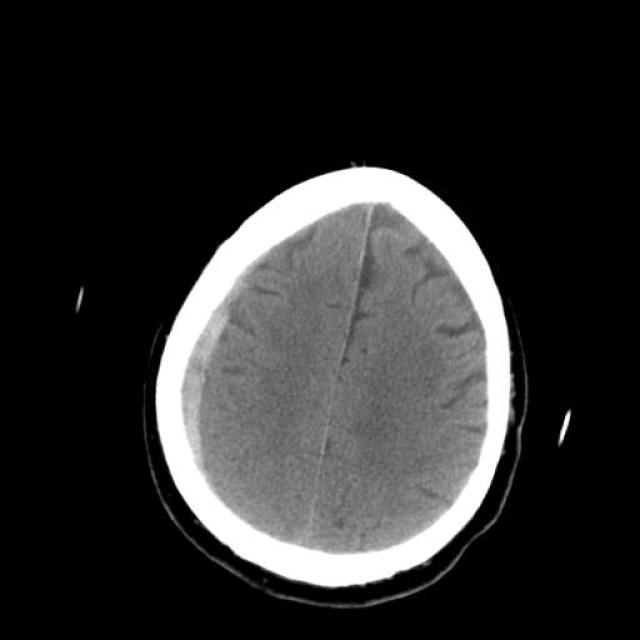Subdural: (106, 198, 302, 542)
